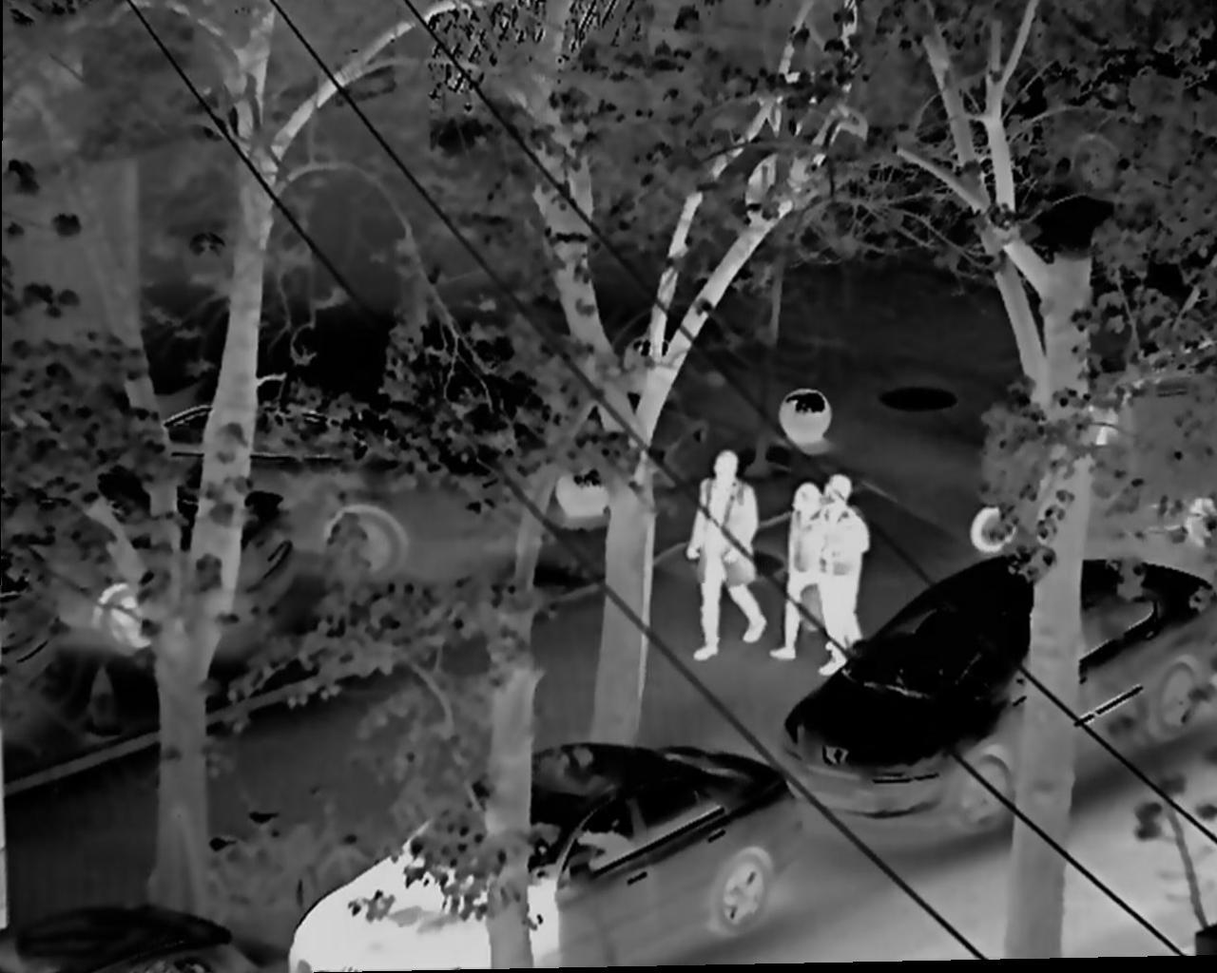person: (682, 444, 766, 659), (814, 474, 871, 678), (773, 483, 830, 667)
